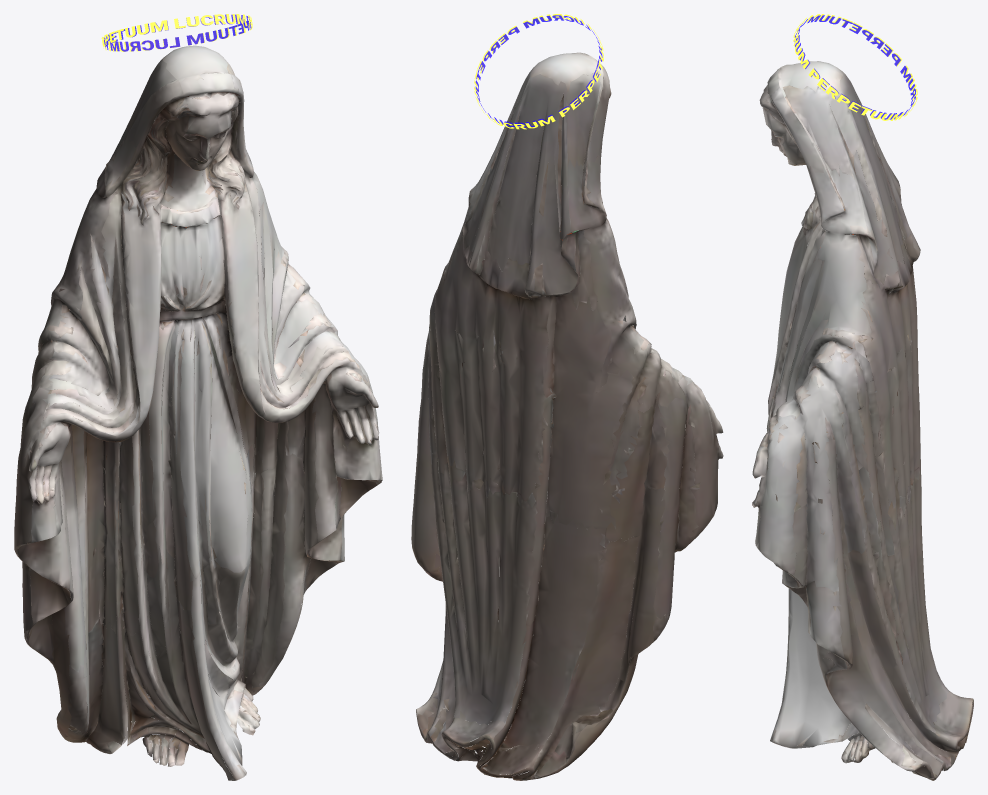
File: CyberpunkMaryHeartRed.glb
3 views of the same model, side by side, from view 1: azimuth 30°, elevation 25°; view 2: azimuth 150°, elevation 25°; view 3: azimuth 270°, elevation 25° (orthographic). The views are drawn at different scales.
Visible parts, largest first — view 1: statue, HaloText1, HaloText2; view 2: statue, HaloText1, HaloText2; view 3: statue, HaloText1, HaloText2.
Boxes of the visible parts, x1,y1,x2,y2 form: statue: [14, 45, 382, 780]; HaloText1: [101, 14, 252, 51]; HaloText2: [104, 14, 251, 51]; statue: [411, 52, 723, 780]; HaloText1: [474, 14, 603, 129]; HaloText2: [475, 15, 602, 127]; statue: [752, 61, 973, 780]; HaloText1: [793, 14, 917, 120]; HaloText2: [794, 15, 915, 119].
Size of the model in its own units: 0.419 by 0.9202 by 0.2567.
8 materials, 2 textured.
